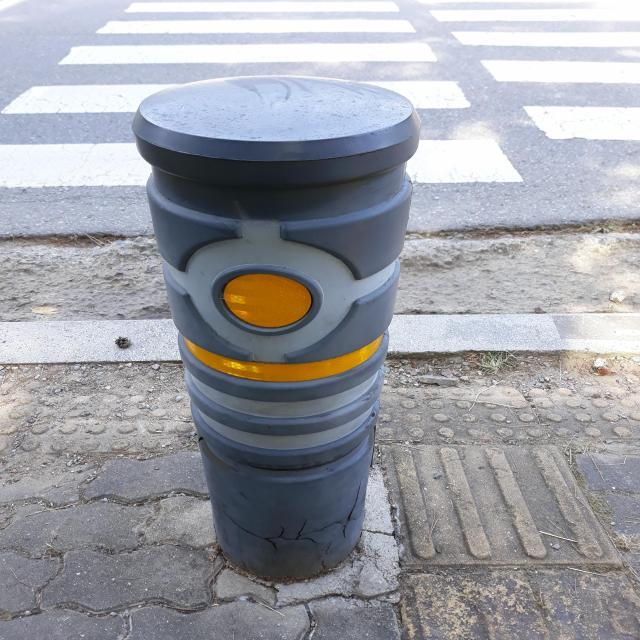pole: (139, 75, 421, 588)
